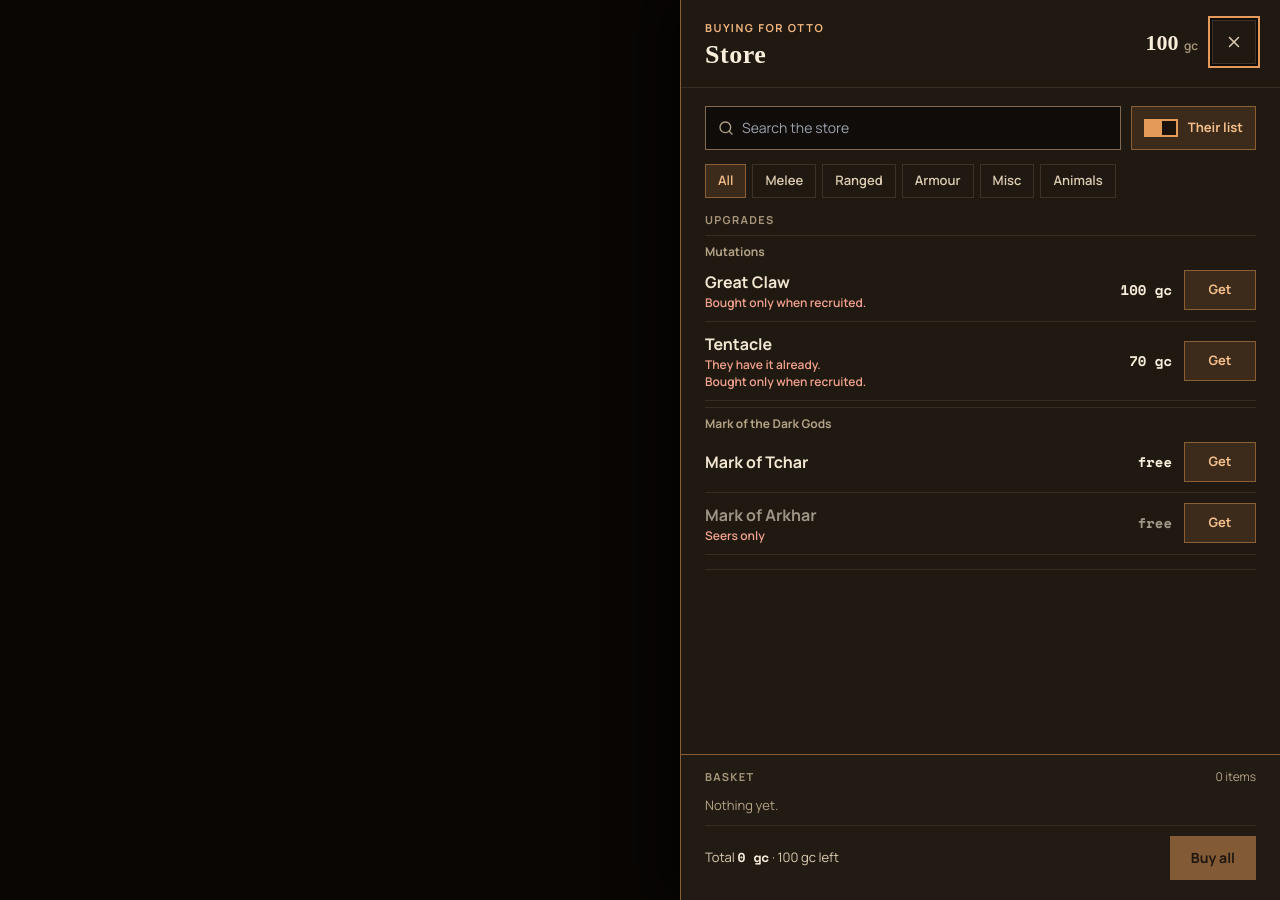
Test case: StorePanel, Upgrades for a hero from the template › finds an upgrade by name without saying nothing in the store has it
Type "Mark of Tchar" into the search field labelled "Search the store" at (925, 128), box [742,118,1108,138]
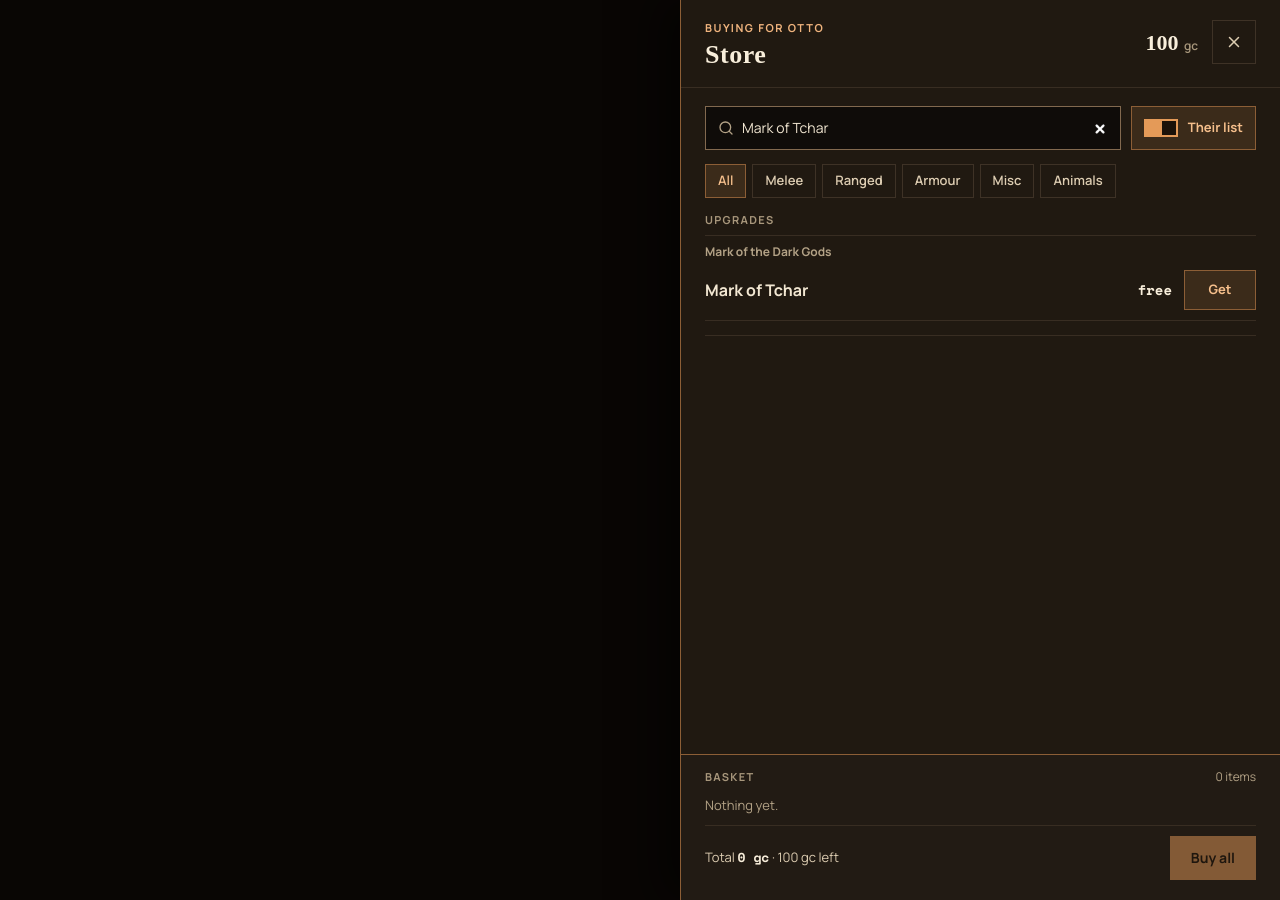
Expected: the button with aria-label "Get Mark of Tchar" is shown, [1184,270,1256,310]
Expected: the text "Nothing in the store by that name." is not shown
Type "zzz" into the search field named "Search the store" at (925, 128), box [742,118,1108,138]
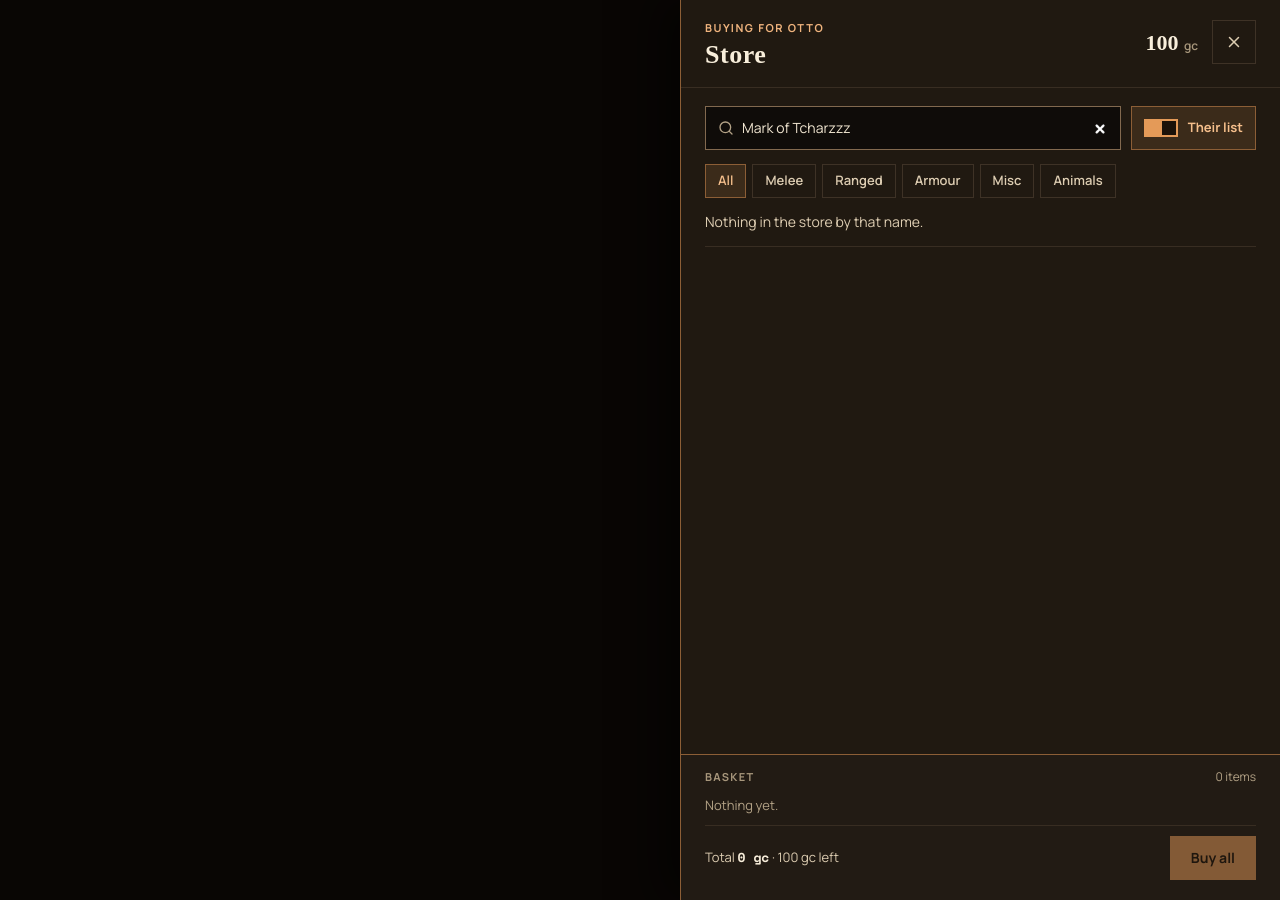
Now the text "Nothing in the store by that name." is shown, box [705,212,923,231]
